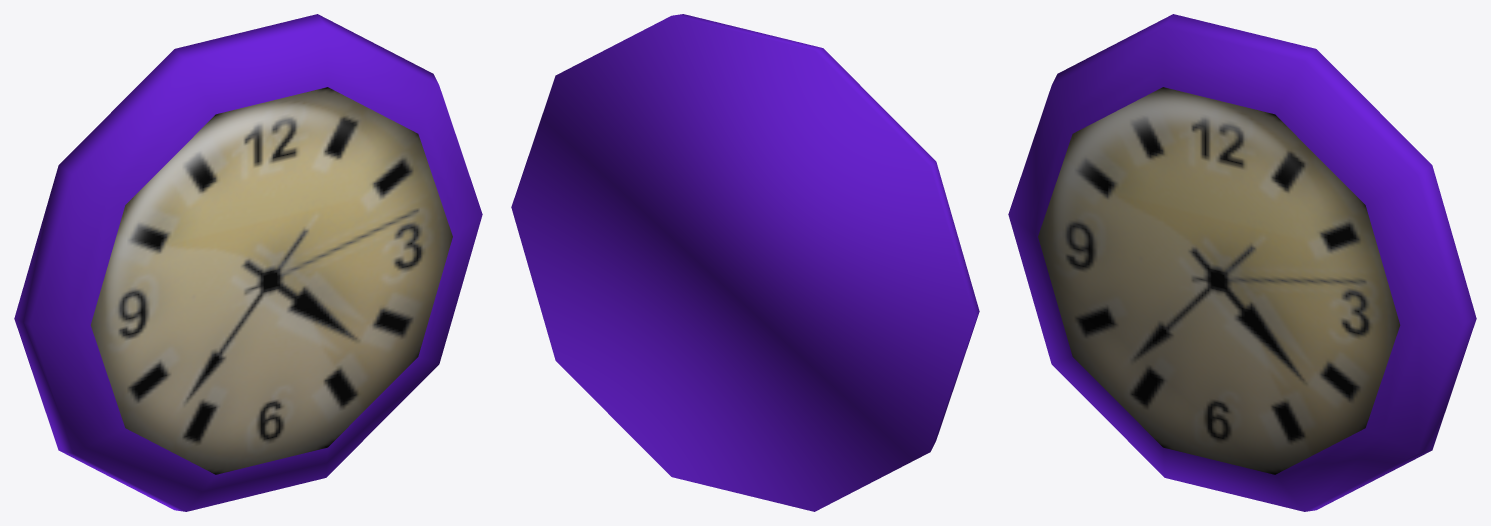
Rendered from Wall_Clock_F.FBX.
3 views of the same model, side by side, from view 1: azimuth 30°, elevation 25°; view 2: azimuth 150°, elevation 25°; view 3: azimuth 330°, elevation 25° (orthographic).
Parts seen in each view (by area): view 1: Wall_Clock; view 2: Wall_Clock; view 3: Wall_Clock.
Part boxes in pixels (x1,y1,x2,y2): Wall_Clock: [14, 14, 482, 511]; Wall_Clock: [511, 14, 979, 511]; Wall_Clock: [1008, 14, 1476, 511].
Size of the model in its own units: 130 by 124 by 12.52.
